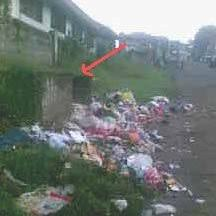garbage: (80, 87, 173, 166), (52, 119, 164, 167)
